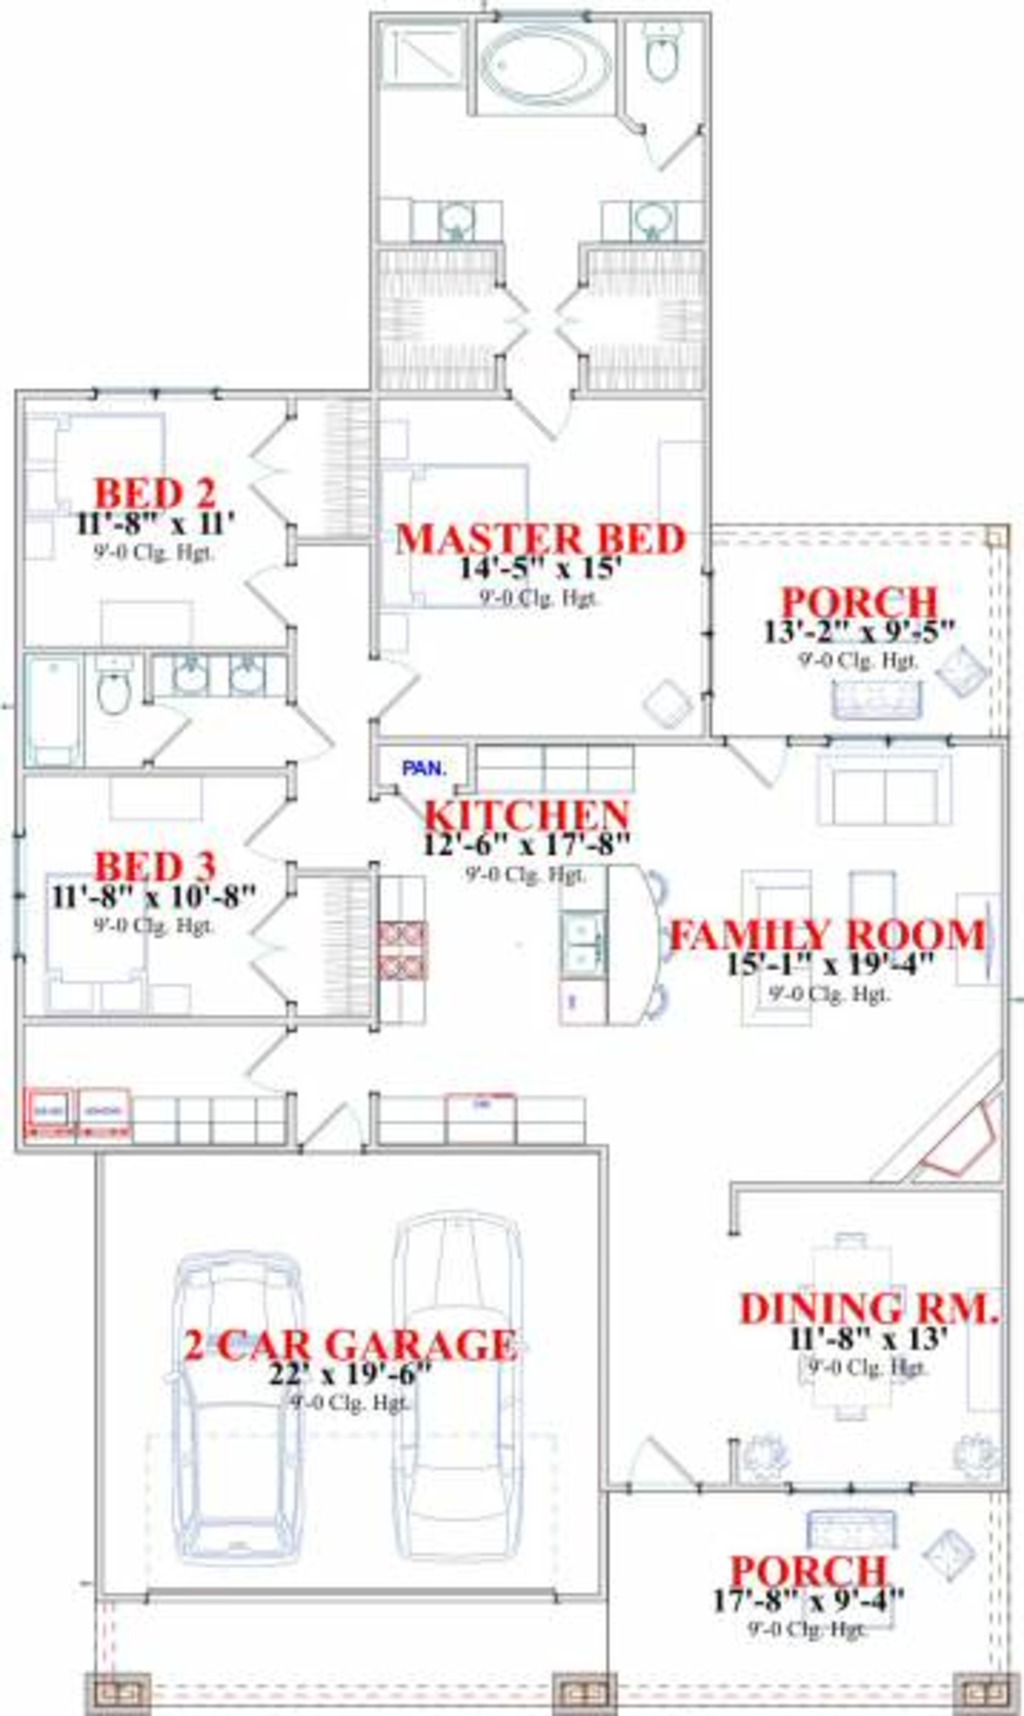bed: (374, 455, 571, 607), (11, 399, 190, 528), (37, 854, 184, 1010)
dining_table: (777, 1215, 929, 1425)
door: (226, 877, 319, 1015), (243, 412, 311, 539), (234, 1027, 316, 1115), (276, 700, 345, 768), (371, 652, 424, 728), (308, 1097, 369, 1161)
kitchen_bar: (525, 818, 674, 1060)
large_sink: (624, 18, 695, 87), (90, 650, 148, 728)
large_sofa: (705, 854, 842, 1023), (819, 739, 965, 841)
small_sink: (154, 643, 284, 707), (405, 182, 492, 236), (616, 199, 684, 241)
tub: (11, 654, 91, 762)
